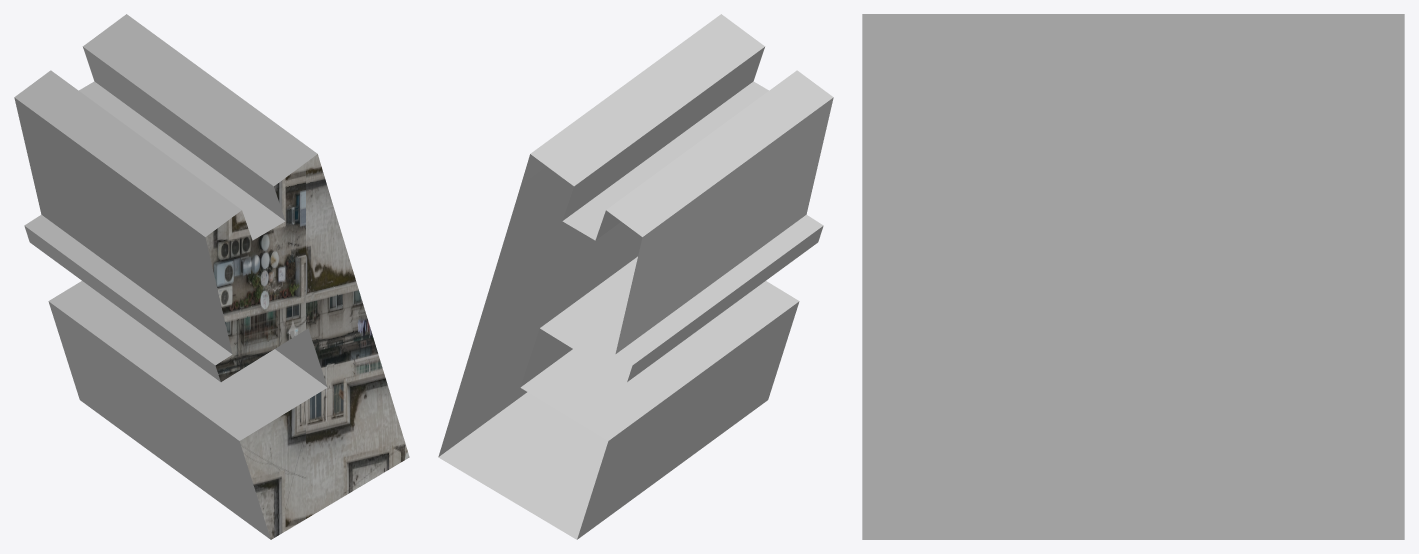
File: geospecific_1090.obj
The picture shows the model from 3 angles, left to right: view 1: azimuth 30°, elevation 25°; view 2: azimuth 150°, elevation 25°; view 3: azimuth 270°, elevation 25°; orthographic projection. The views are drawn at different scales.
Visible parts, largest first — view 1: Building; view 2: Building; view 3: Building.
Boxes of the visible parts, x1,y1,x2,y2 form: Building: (14, 14, 409, 539); Building: (438, 14, 833, 539); Building: (862, 14, 1404, 539).
Bounding box in the file's own units: 18.51 × 32.44 × 30.
